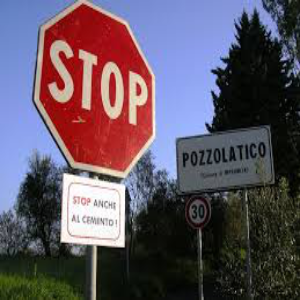STOP_SIGN: (31, 1, 156, 179)
